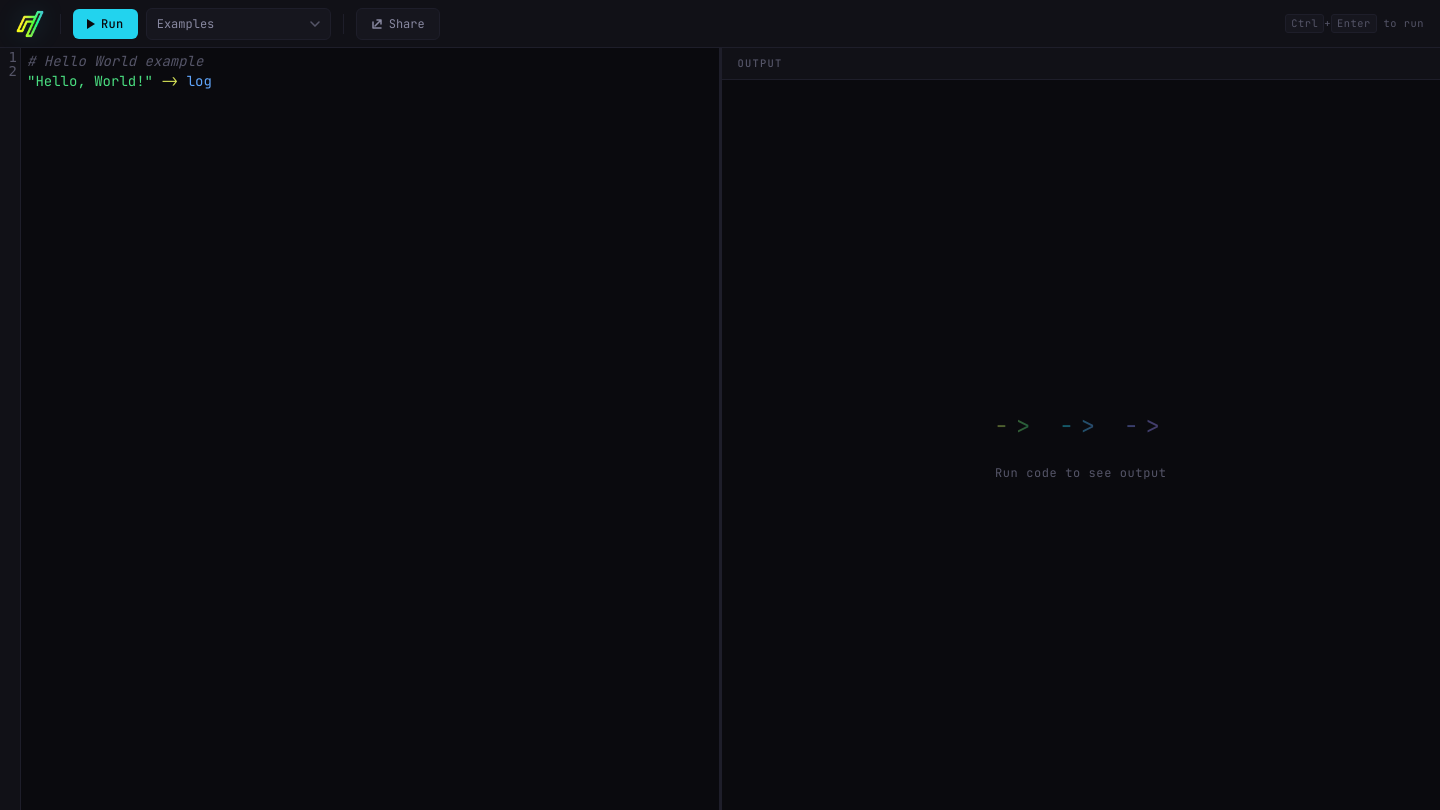
Test: App › error handling › renders a resolved timeout ExecutionState as an error
Step 1. Click the button with class "toolbar-run" → point(105, 24), box x1=73 y1=8 x2=138 y2=38
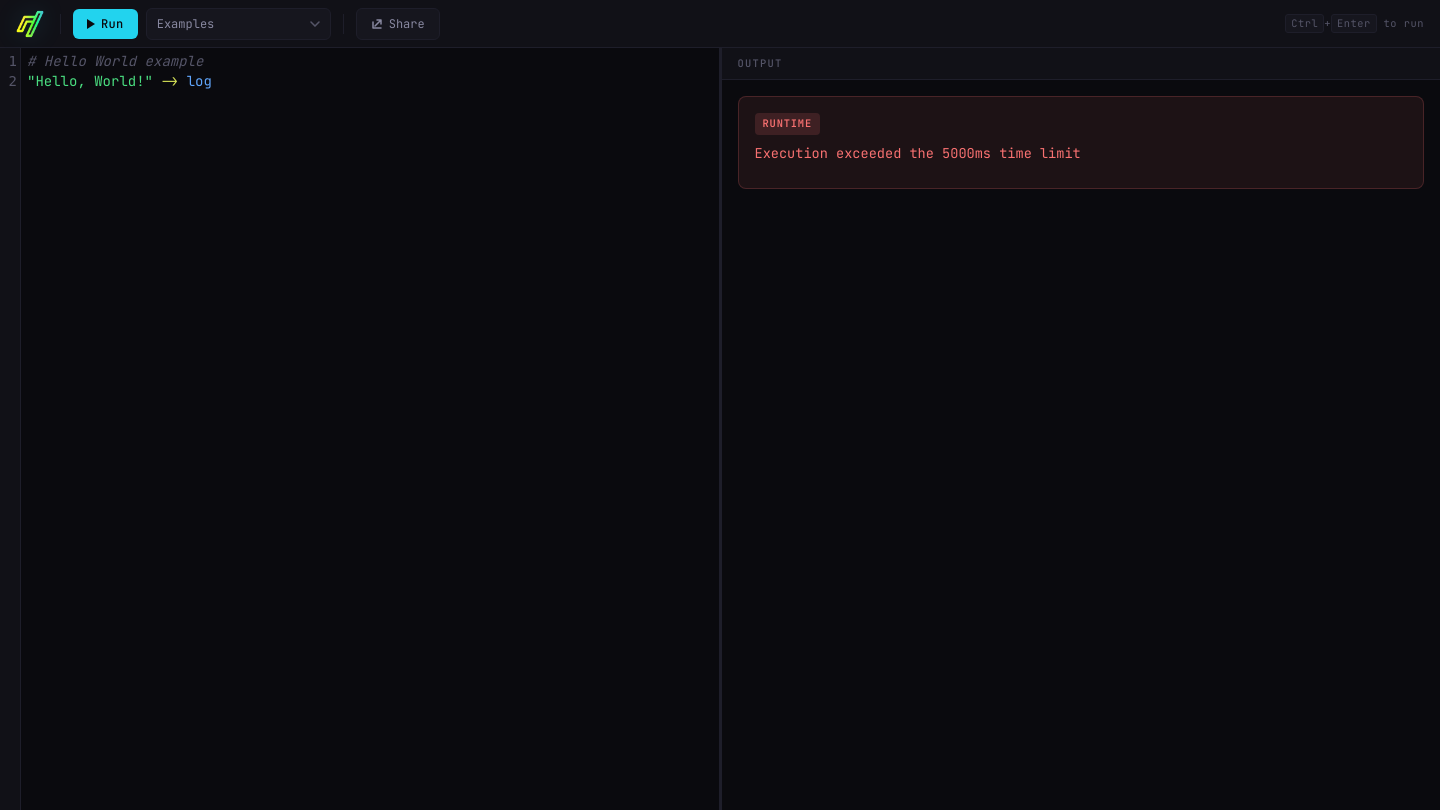
Check: the message "Runtime Execution exceeded the 5000ms time limit" is shown, box x1=738 y1=96 x2=1424 y2=189
Check: the message with class "output-error" shows "time limit", box x1=754 y1=144 x2=1081 y2=162
